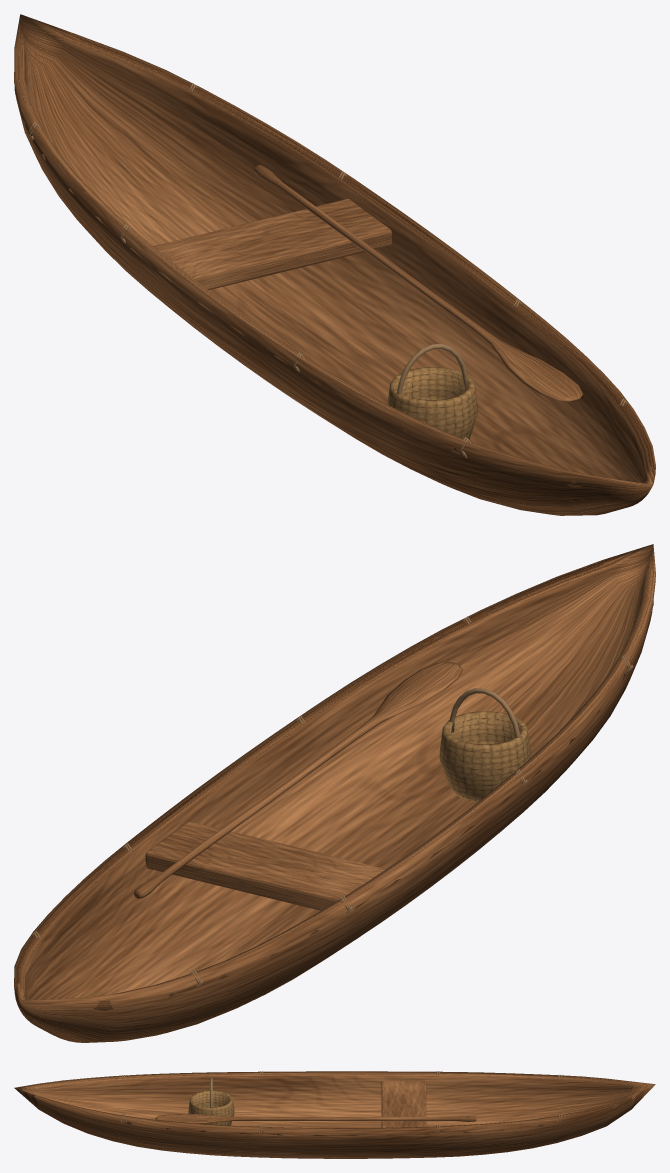
The model's file is MONTRA-ayutthaya-dugout-LOD0.glb.
The picture shows the model from 3 angles, top to bottom: view 1: azimuth 30°, elevation 25°; view 2: azimuth 150°, elevation 25°; view 3: azimuth 270°, elevation 25°; orthographic projection. The views are drawn at different scales.
Parts seen in each view (by area): view 1: Dugout_Hull, Rowers_Thwart, Single_Blade_Paddle, Woven_Fishing_Basket; view 2: Dugout_Hull, Rowers_Thwart, Woven_Fishing_Basket, Single_Blade_Paddle; view 3: Dugout_Hull, Rowers_Thwart, Single_Blade_Paddle, Woven_Fishing_Basket, Gunwales, Gunwale_Lashings.
Part boxes in pixels (bbox=[...]): Dugout_Hull: bbox=[14, 14, 655, 515]; Rowers_Thwart: bbox=[153, 199, 391, 289]; Single_Blade_Paddle: bbox=[254, 165, 583, 401]; Woven_Fishing_Basket: bbox=[387, 367, 477, 439]; Dugout_Hull: bbox=[14, 544, 655, 1042]; Rowers_Thwart: bbox=[145, 821, 385, 910]; Woven_Fishing_Basket: bbox=[439, 711, 530, 802]; Single_Blade_Paddle: bbox=[134, 662, 463, 898]; Dugout_Hull: bbox=[14, 1071, 655, 1158]; Rowers_Thwart: bbox=[381, 1081, 426, 1127]; Single_Blade_Paddle: bbox=[155, 1114, 476, 1123]; Woven_Fishing_Basket: bbox=[188, 1090, 234, 1125]; Gunwales: bbox=[17, 1082, 645, 1135]; Gunwale_Lashings: bbox=[120, 1071, 562, 1134].
Size of the model in its own units: 0.85 by 0.45 by 4.
Materials: 3 (2 with a texture image).
